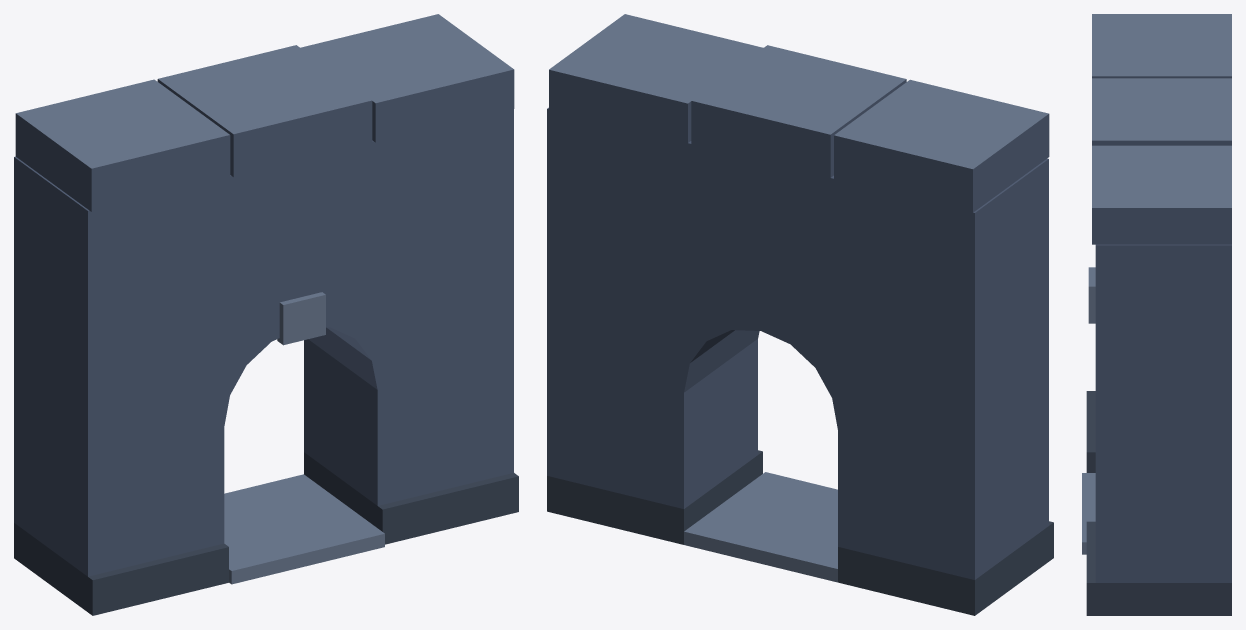
File: kit_wall_stone_door.glb
The picture shows the model from 3 angles, left to right: view 1: azimuth 30°, elevation 25°; view 2: azimuth 150°, elevation 25°; view 3: azimuth 270°, elevation 25°; orthographic projection. The views are drawn at different scales.
Visible parts, largest first — view 1: kit_wall_stone_door; view 2: kit_wall_stone_door; view 3: kit_wall_stone_door.
Part boxes in pixels (x1,y1,x2,y2): kit_wall_stone_door: (14, 14, 518, 615); kit_wall_stone_door: (547, 14, 1053, 615); kit_wall_stone_door: (1082, 14, 1231, 615).
Size of the model in its own units: 1 by 0.997 by 0.33.
1 material, 1 textured.
